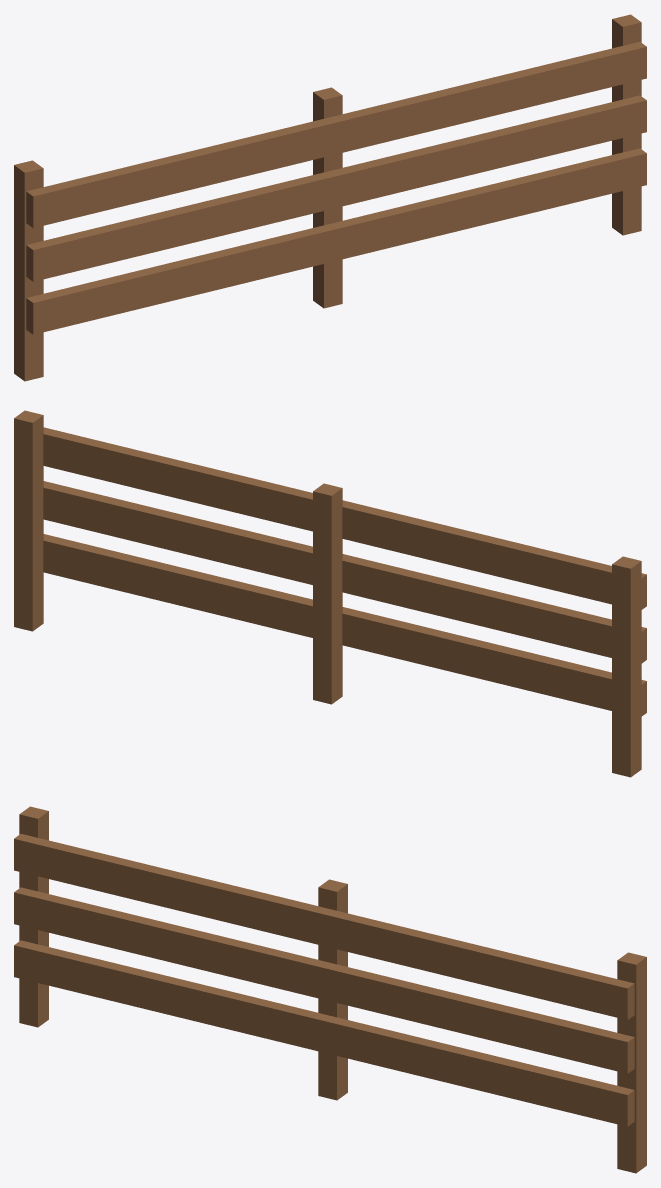
The model's file is Fence_03.fbx.
The picture shows the model from 3 angles, top to bottom: view 1: azimuth 30°, elevation 25°; view 2: azimuth 150°, elevation 25°; view 3: azimuth 330°, elevation 25°; orthographic projection.
Parts seen in each view (by area): view 1: Fence_03; view 2: Fence_03; view 3: Fence_03.
Boxes of the visible parts, left/top/right/bottom form: Fence_03: left=14, top=14, right=646, bottom=381; Fence_03: left=14, top=410, right=646, bottom=777; Fence_03: left=14, top=806, right=646, bottom=1173.
Bounding box in the file's own units: 6.19 × 2 × 0.3079.
